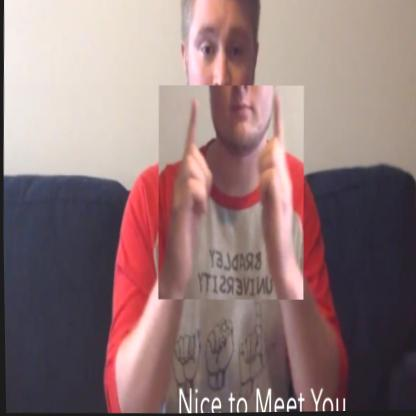NiceToMeetYou: (155, 83, 305, 302)
